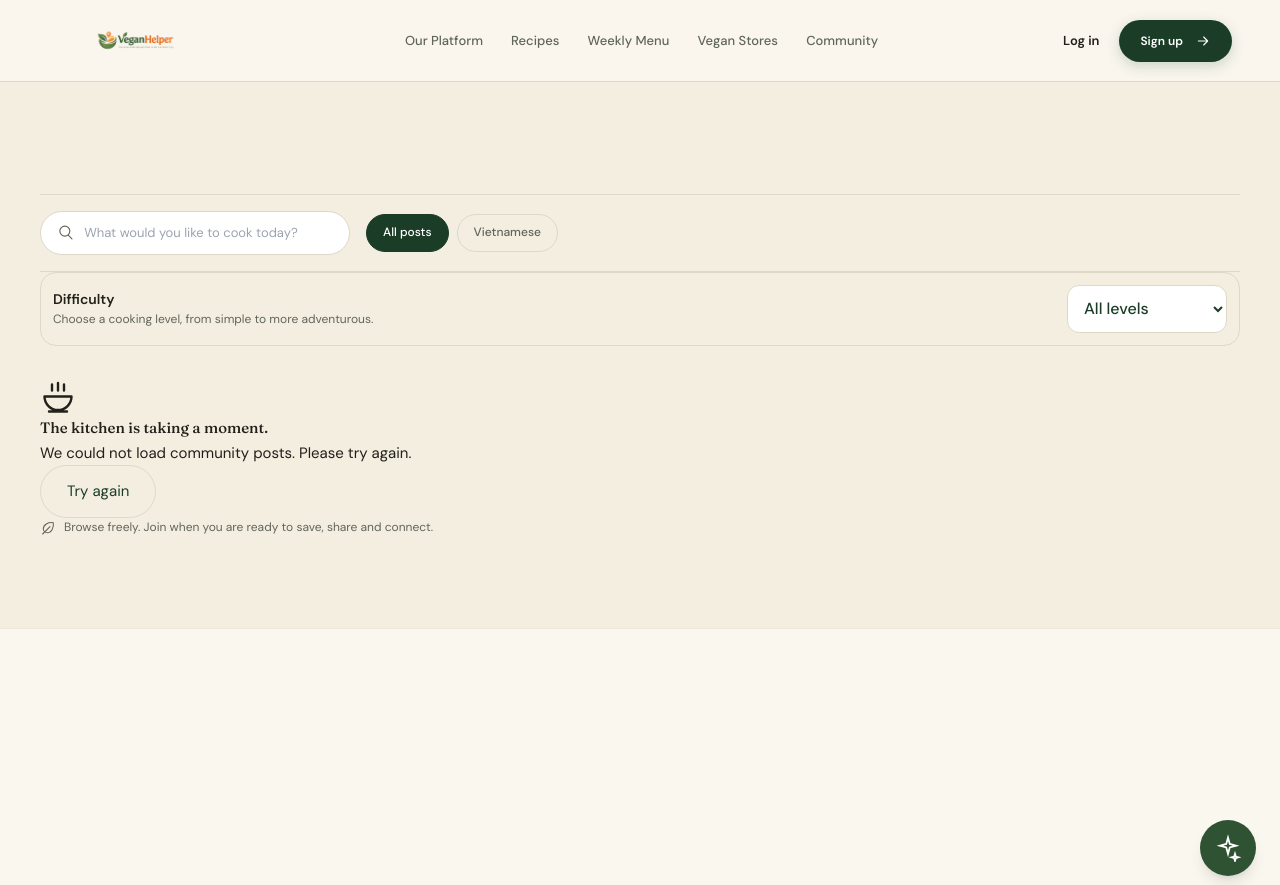
Scenario: retry recovers from an API failure without presenting fake posts or a fake total
(page scrolled)
Expected: the message that starts with "The kitchen is taking a moment." shows "could not load", [40,443,411,463]
Click the button "Try again": {"x": 98, "y": 492} [40,465,156,518]
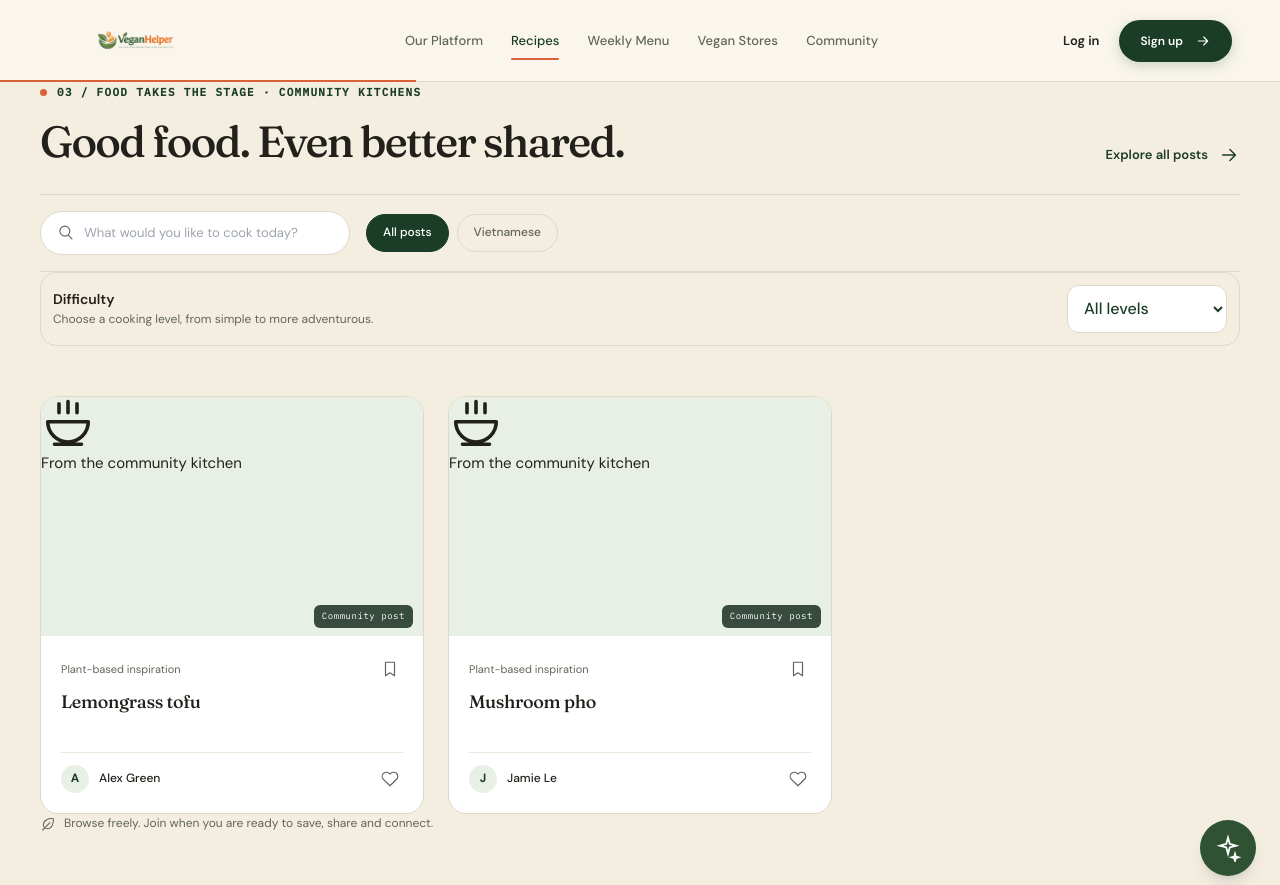
Now the number of elements with class "lp-recipe-card" is 2, box [40,396,424,814]; [448,396,832,814]
